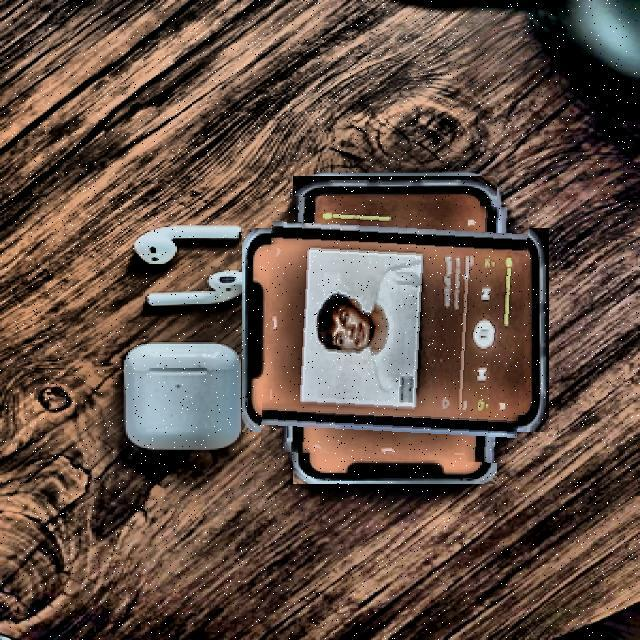Phone: (264, 198, 526, 462)
